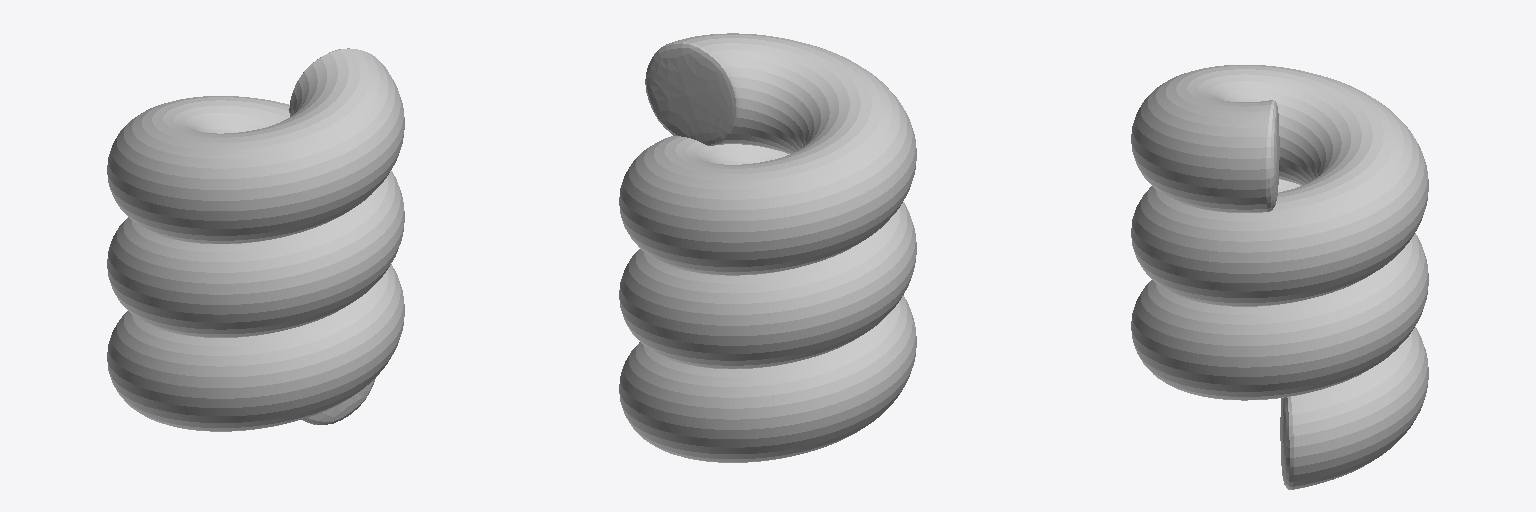
Rendered from helix.obj.
3 renders of one model, left to right at view 1: azimuth 30°, elevation 25°; view 2: azimuth 150°, elevation 25°; view 3: azimuth 270°, elevation 25°, orthographic.
Visible parts, largest first — view 1: pHelix1; view 2: pHelix1; view 3: pHelix1.
Part boxes in pixels (x1,y1,x2,y2): pHelix1: (107, 48, 404, 431); pHelix1: (619, 33, 916, 462); pHelix1: (1131, 65, 1428, 489).
Size of the model in its own units: 1.92 by 2.71 by 1.92.